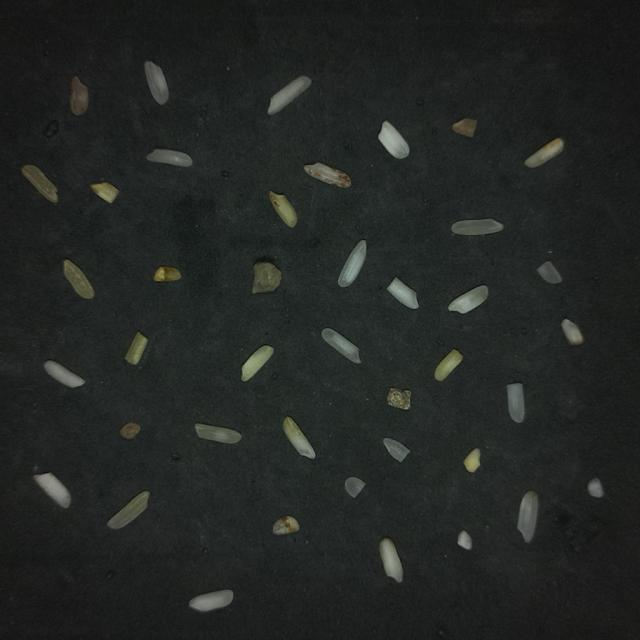broken: (303, 162, 350, 186), (448, 285, 487, 312), (188, 588, 232, 611), (386, 277, 417, 308), (195, 423, 240, 442), (146, 148, 192, 165), (125, 331, 147, 364), (506, 383, 524, 422), (382, 437, 409, 461), (90, 181, 119, 202), (561, 318, 582, 344), (536, 260, 560, 282), (452, 118, 478, 138), (344, 476, 364, 497), (587, 477, 603, 496), (456, 530, 471, 549)
chalky: (267, 75, 310, 114), (33, 471, 70, 507), (337, 239, 365, 286), (378, 120, 408, 158), (43, 360, 84, 387), (378, 536, 402, 581)
damaged: (272, 515, 299, 534)
discolored: (107, 490, 149, 528), (21, 164, 57, 202), (282, 416, 314, 458), (63, 258, 93, 298), (524, 138, 562, 167), (241, 345, 272, 380), (268, 190, 296, 227), (434, 348, 462, 380), (464, 448, 481, 473), (153, 265, 180, 280)
foreign: (251, 261, 280, 292), (386, 386, 410, 409), (120, 421, 139, 438)
red: (70, 75, 87, 114)
whole: (321, 327, 359, 362), (143, 60, 168, 103), (517, 490, 537, 542), (451, 218, 502, 234)
